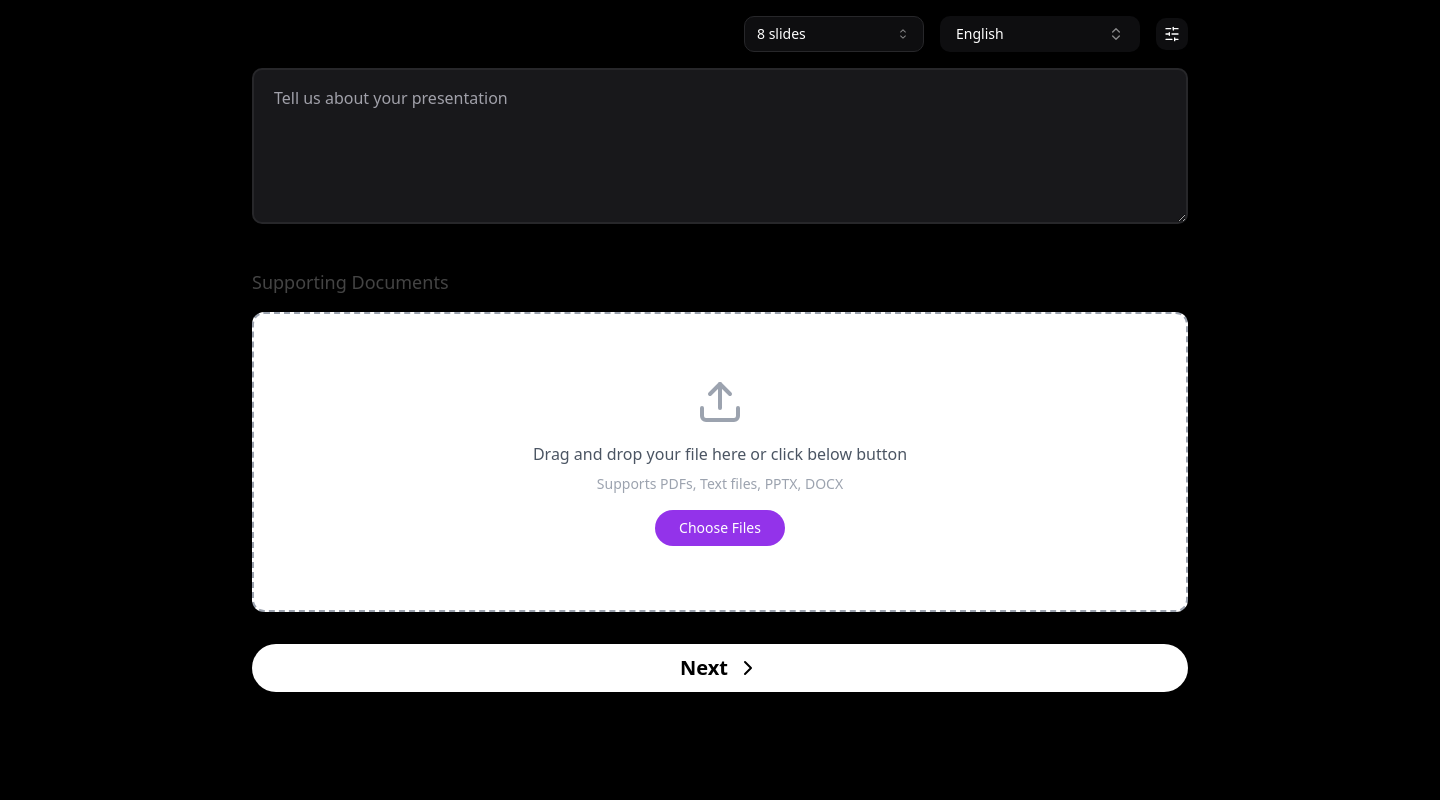
<UploadPage /> › Configuration Selection › should allow selecting language
# Force click to handle any overlay issues
Click the dropdown with test id "language-select". click: (1040, 34)
box: [940,16,1140,52]
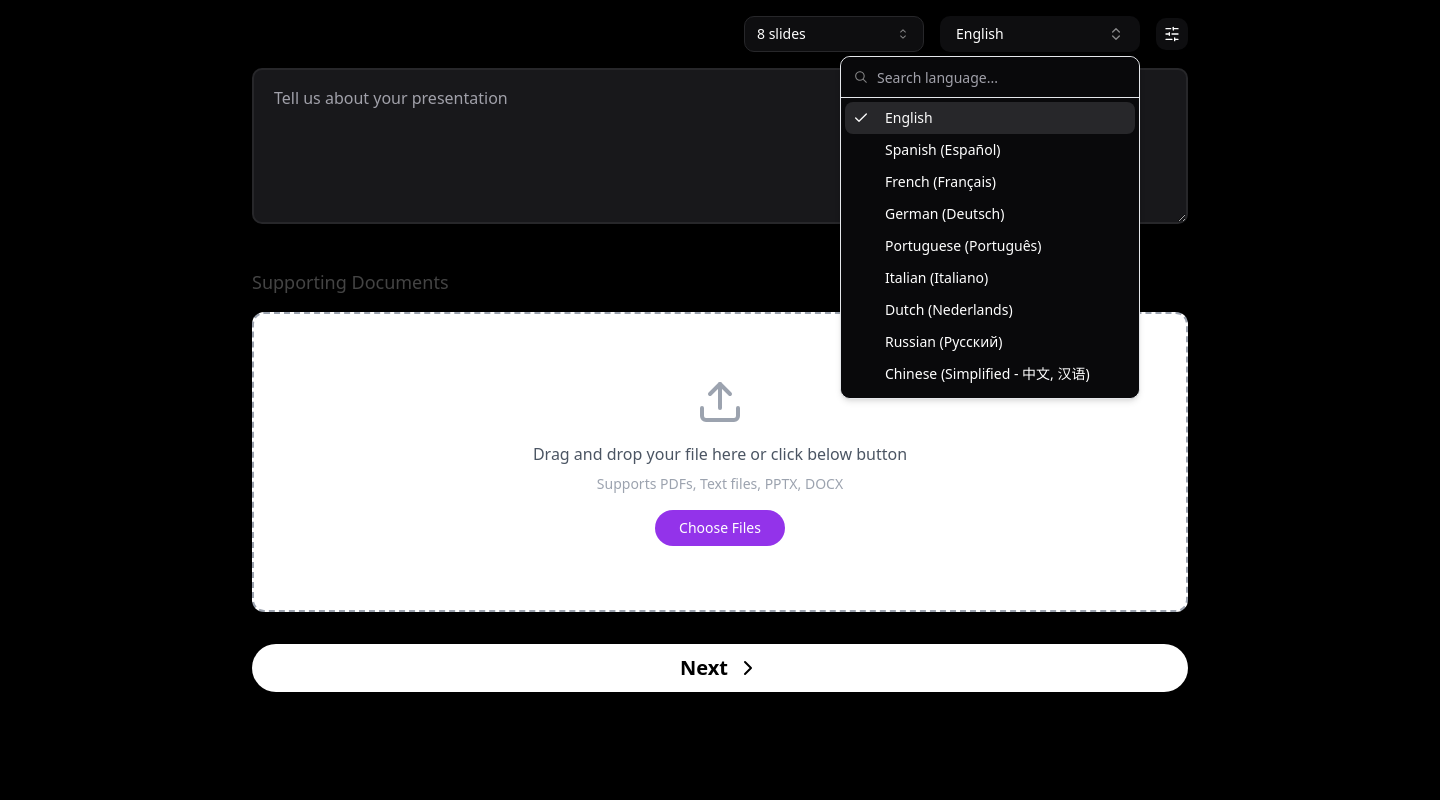
Check: the option "Chinese (Simplified - 中文, 汉语)" is shown
# Wait for content to be visible and click
Click the option "Chinese (Simplified - 中文, 汉语)". click: (988, 374)
box: [885,364,1090,383]
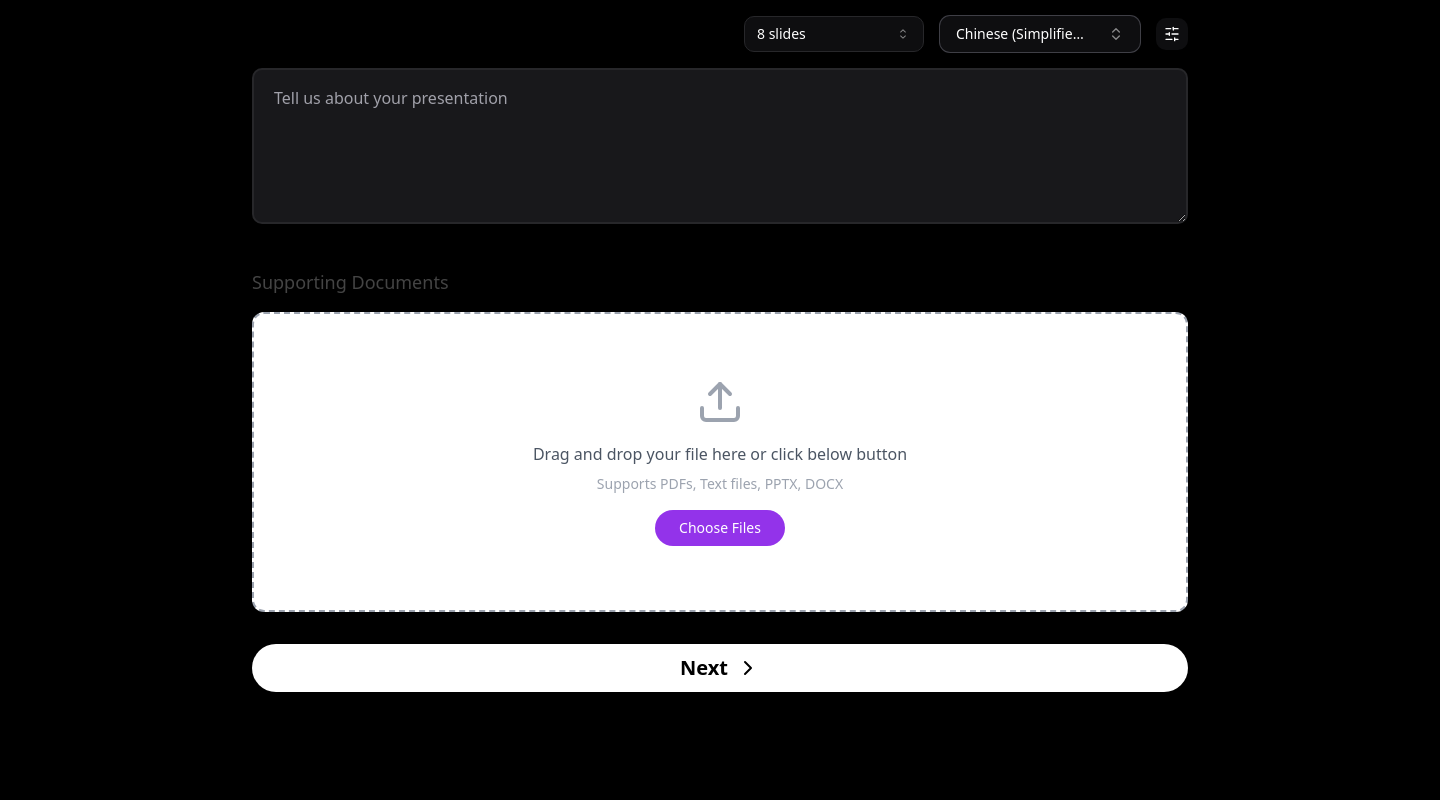
Check: the text with test id "language-select" shows "Chinese", box [956,24,1161,43]
